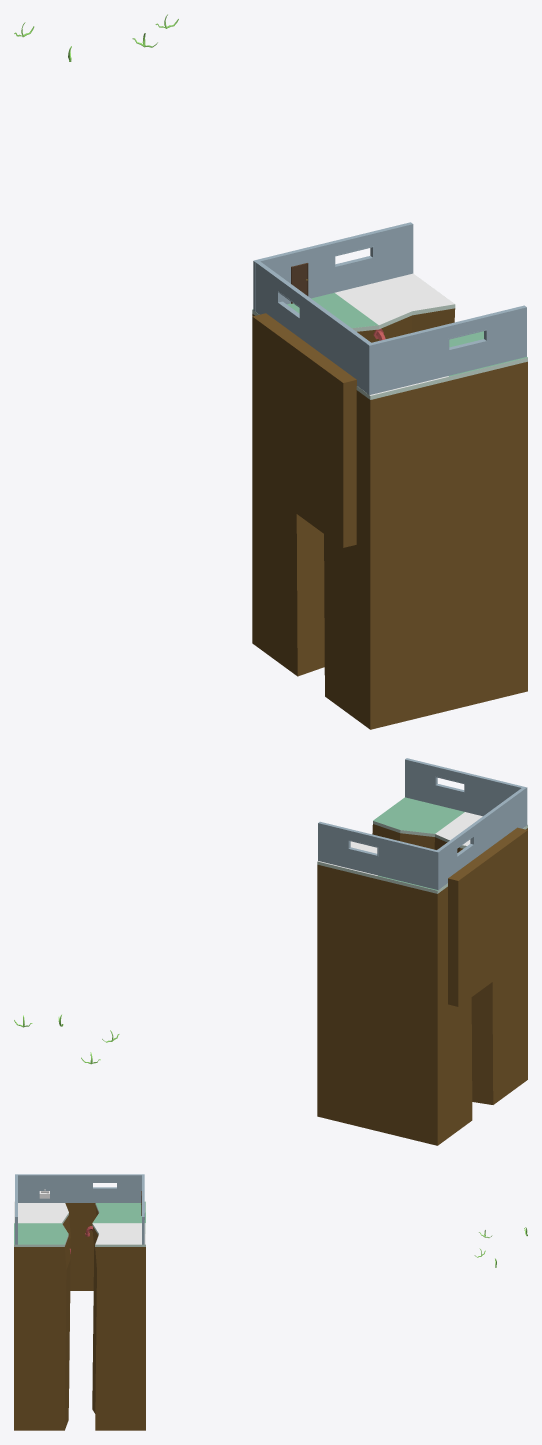
The model's file is level1.fbx.
3 renders of one model, top to bottom at view 1: azimuth 30°, elevation 25°; view 2: azimuth 150°, elevation 25°; view 3: azimuth 270°, elevation 25°, orthographic. The views are drawn at different scales.
Visible parts, largest first — view 1: Cube_3_2, Cube_7, Cube_2_2, Cube_4, Cube_6_5, Cube_5, Cube_2, Cube_3; view 2: Cube_2_2, Cube_7, Cube_3_2, Cube_6_5, Cube_4, Cube_5, Cube_3, Cube_2; view 3: Cube_3_2, Cube_2_2, Cube_5, Cube_3, Cube_2, Cube_7.
Boxes of the visible parts, x1,y1,x2,y2 form: Cube_3_2: (324,361,527,729); Cube_7: (252,313,356,547); Cube_2_2: (252,308,455,676); Cube_4: (367,305,526,394); Cube_6_5: (253,222,413,311); Cube_5: (255,261,370,392); Cube_2: (252,273,455,331); Cube_3: (356,331,527,399); Cube_2_2: (317,864,472,1145); Cube_7: (448,827,527,1006); Cube_3_2: (372,824,527,1104); Cube_6_5: (318,821,440,890); Cube_4: (405,758,527,826); Cube_5: (436,788,525,888); Cube_3: (373,797,527,848); Cube_2: (317,841,447,893); Cube_3_2: (14,1215,70,1430); Cube_2_2: (92,1205,145,1430); Cube_5: (17,1174,142,1202); Cube_3: (14,1201,68,1246); Cube_2: (92,1201,145,1246); Cube_7: (65,1203,96,1290).
Size of the model in its own units: 3223 by 4650 by 10133.
Materials: 9 (1 with a texture image).
